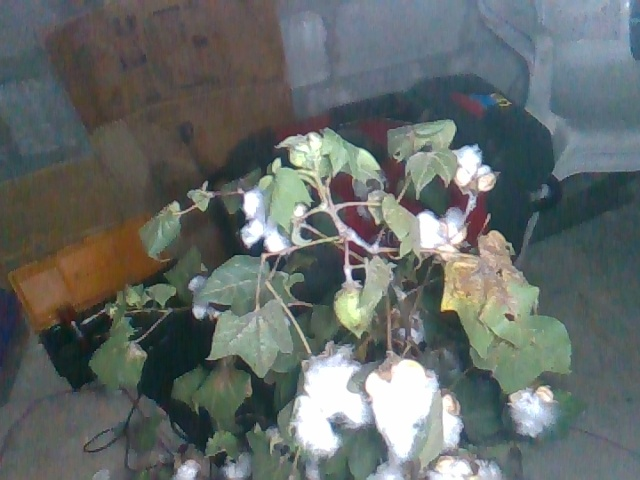cotton: (284, 342, 370, 457), (364, 358, 437, 461), (238, 183, 308, 261), (413, 206, 472, 272), (438, 141, 499, 195), (508, 382, 560, 441), (425, 451, 511, 480), (183, 268, 223, 325), (433, 387, 465, 455), (218, 451, 255, 480), (364, 461, 407, 480), (175, 457, 202, 480)
